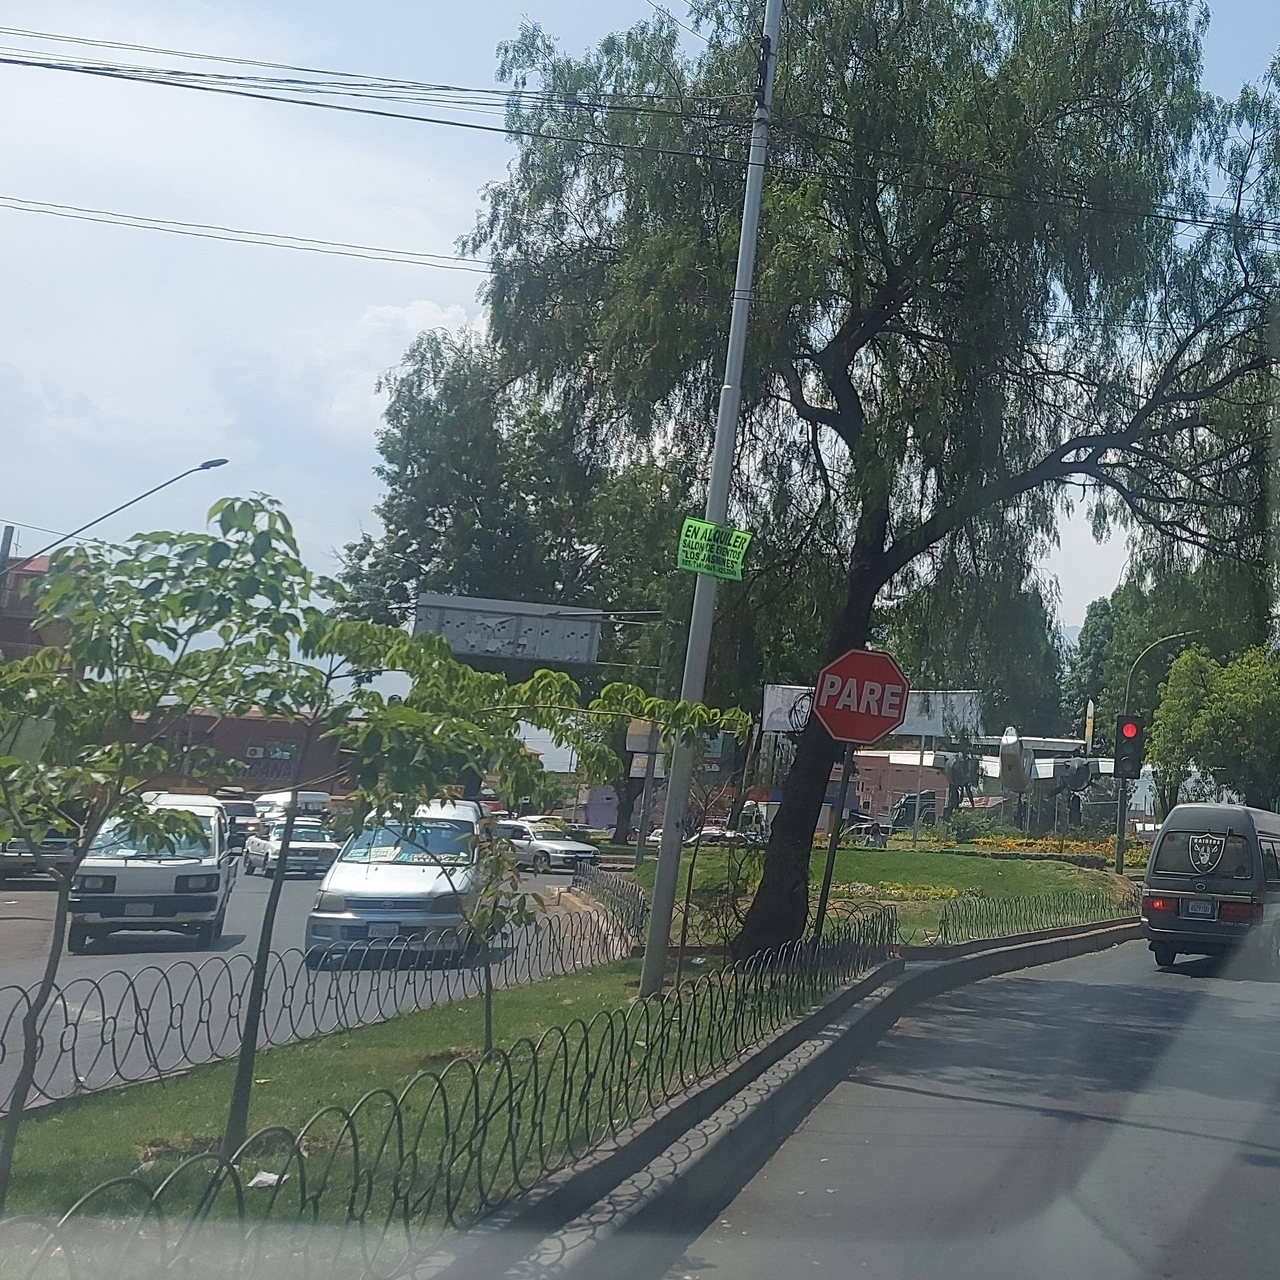pare: (815, 644, 910, 749)
